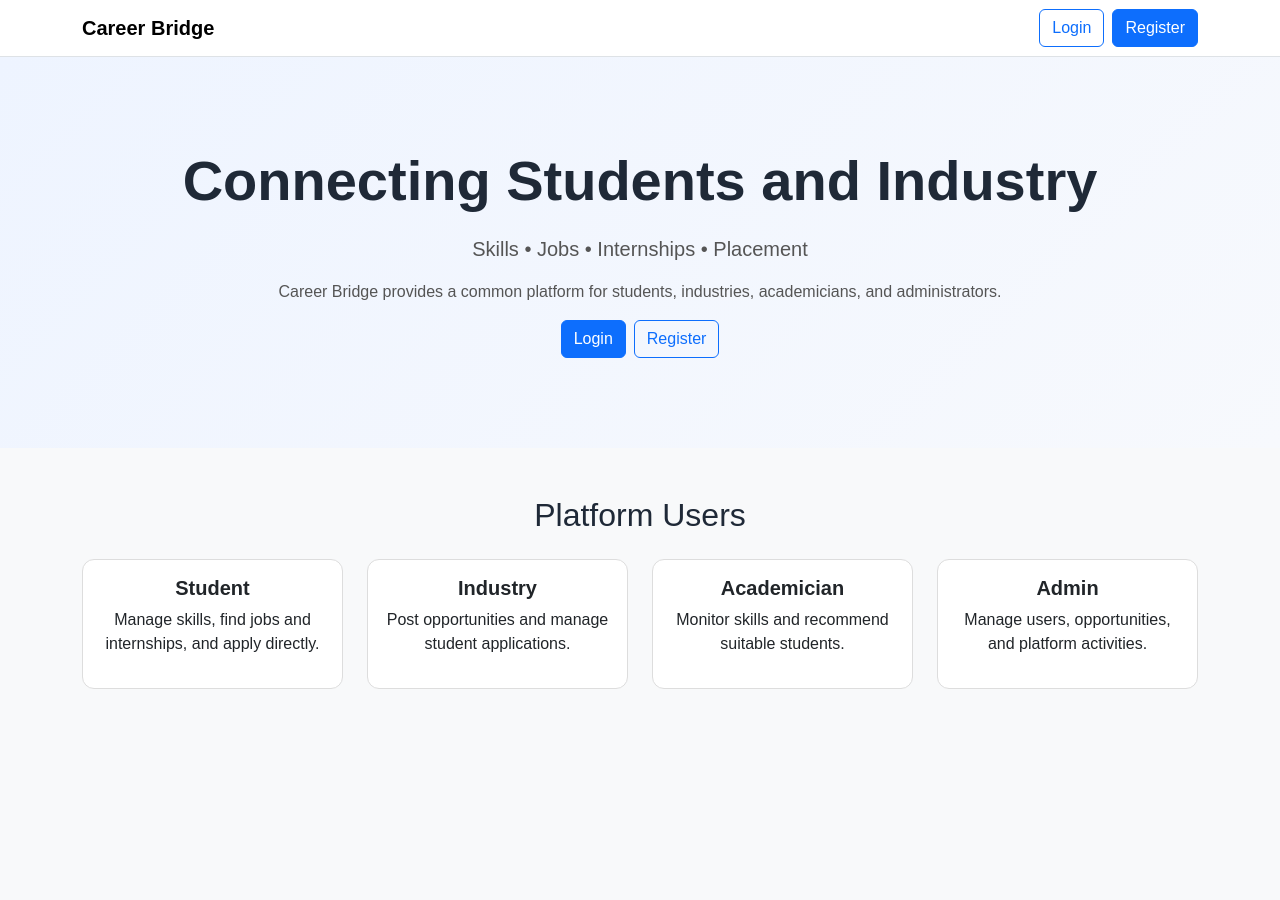
Test case: authentication flow › opens the login page and displays its form
Click the 1st button "Login" at (1072, 28), box [1039,9,1104,47]
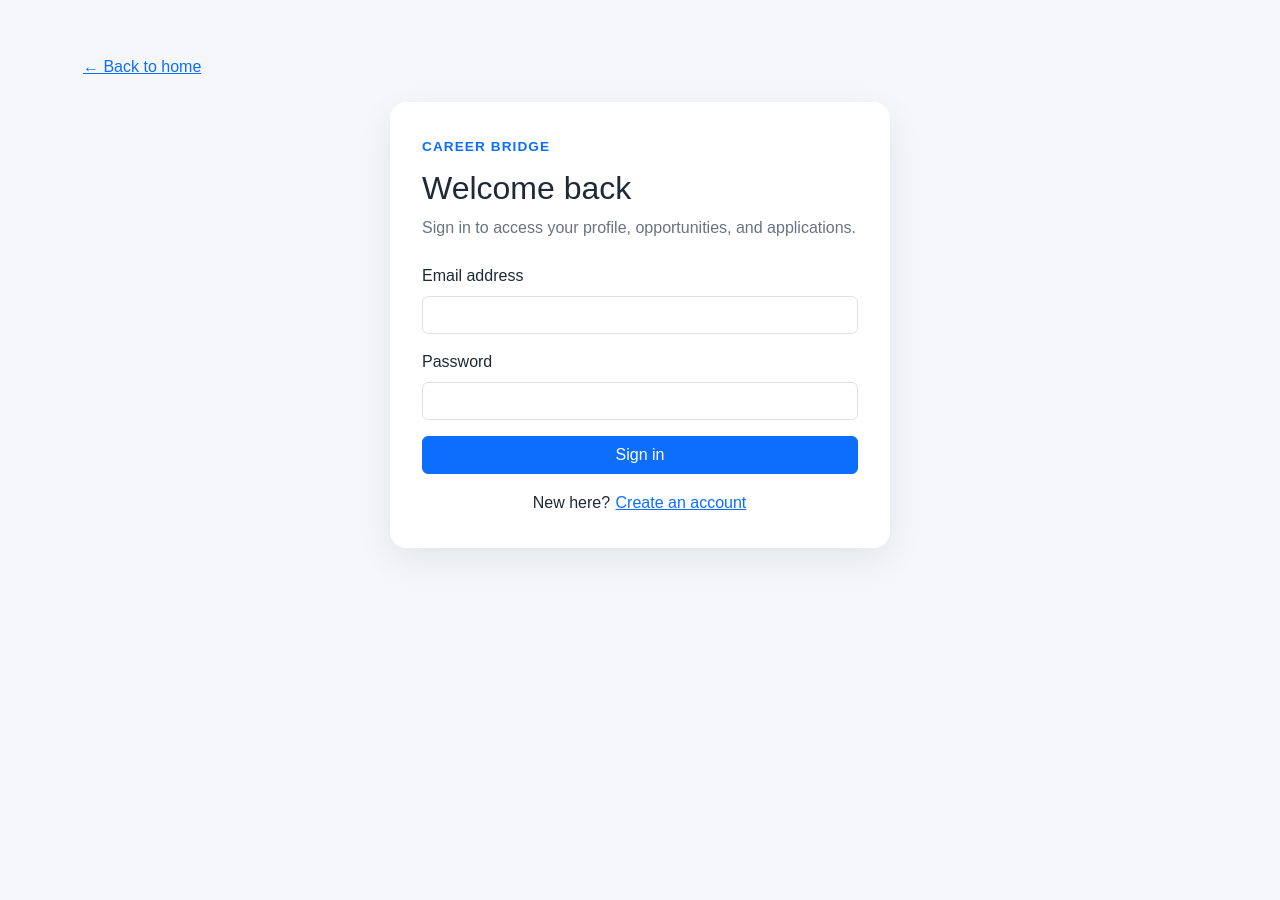
Check: the heading "Welcome back" is shown, box [422,170,631,206]
Check: the field labelled "Email address" is shown, box [422,296,858,334]
Check: the password field labelled "Password" is shown, box [422,382,858,420]
